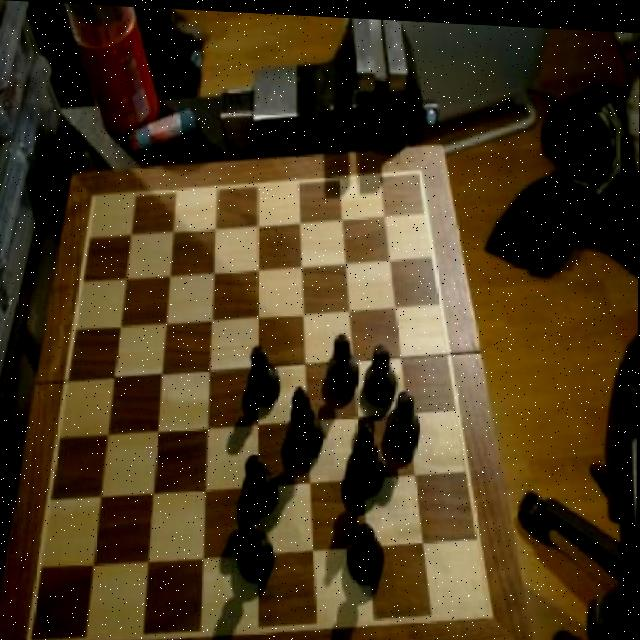bishop: (348, 416, 389, 503), (287, 380, 326, 463)
black-knight: (239, 450, 280, 524), (238, 511, 279, 585), (385, 384, 422, 454), (247, 341, 284, 408), (346, 519, 386, 579), (367, 338, 398, 406), (328, 329, 360, 389)
